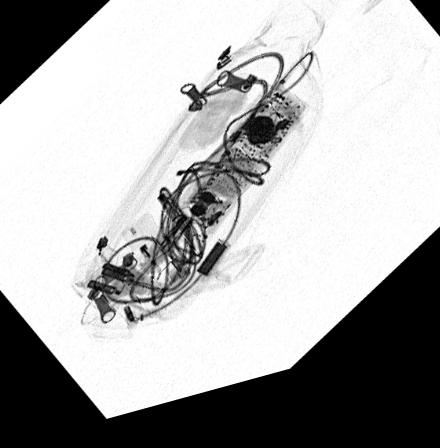Lighter: (119, 220, 170, 282)
